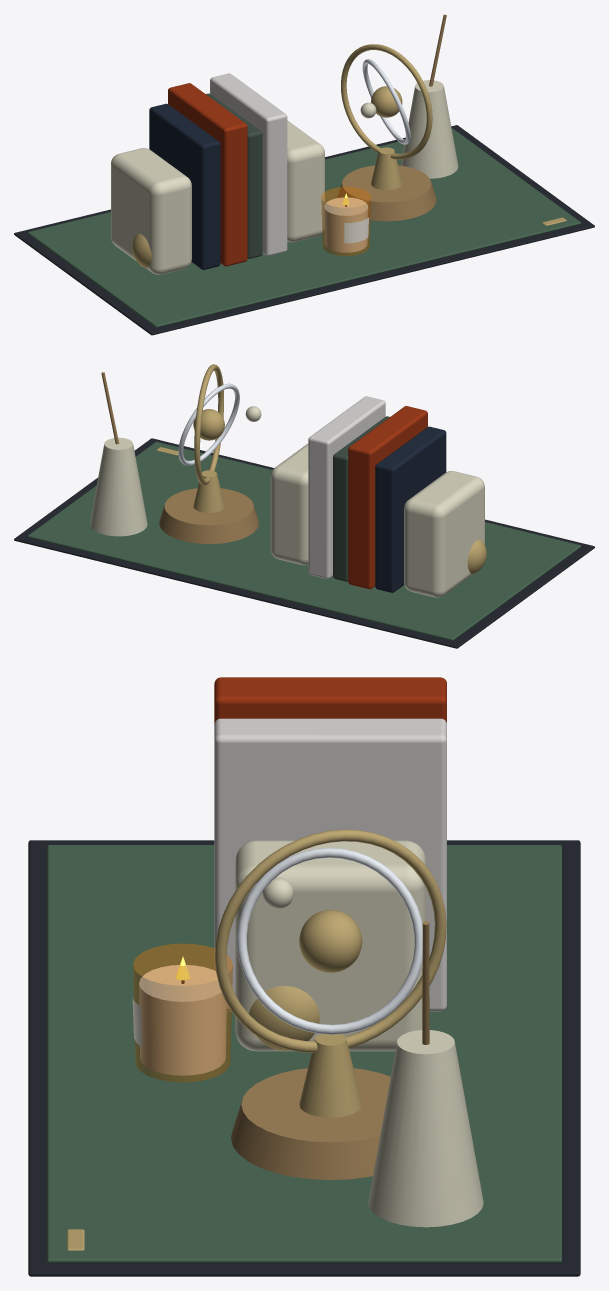
File: atelier-decor-curiosities-matcha.glb
3 renders of one model, top to bottom at view 1: azimuth 30°, elevation 25°; view 2: azimuth 150°, elevation 25°; view 3: azimuth 270°, elevation 25°, orthographic. The views are drawn at different scales.
Size of the model in its own units: 0.78 by 0.2655 by 0.4201.
